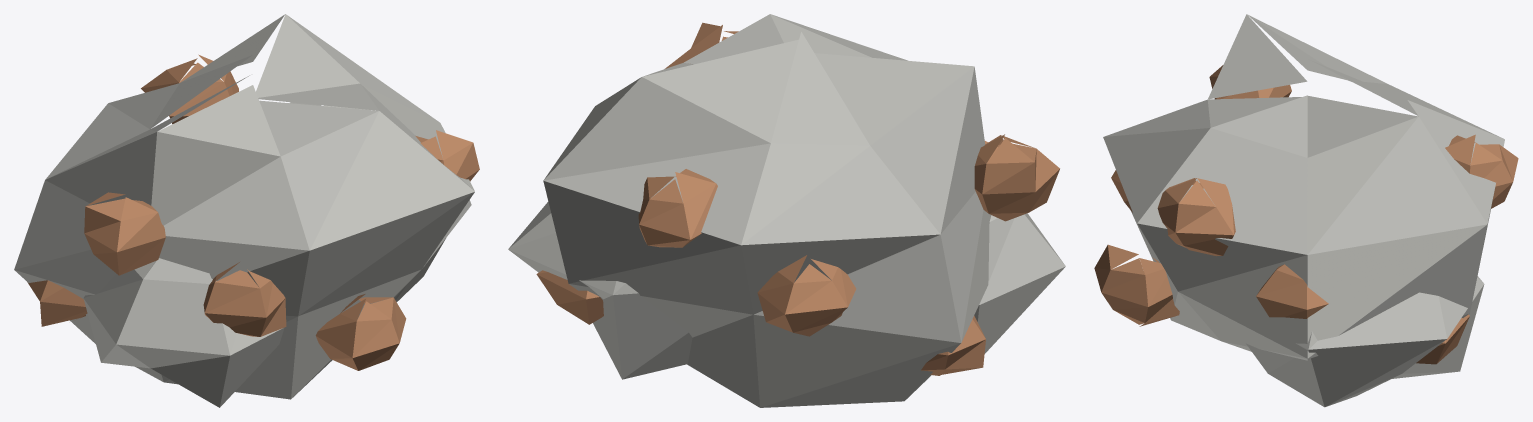
The model's file is wipe-day-survival-island-metal-ore-node-6a20ffe2__27422.glb.
3 renders of one model, left to right at view 1: azimuth 30°, elevation 25°; view 2: azimuth 150°, elevation 25°; view 3: azimuth 270°, elevation 25°, orthographic. The views are drawn at different scales.
Visible parts, largest first — view 1: metal-ore-node; view 2: metal-ore-node; view 3: metal-ore-node.
Part boxes in pixels (x1,y1,x2,y2): metal-ore-node: (14,14,479,407); metal-ore-node: (508,14,1065,407); metal-ore-node: (1094,14,1518,407).
Bounding box in the file's own units: 1.61 × 1.19 × 1.45.
